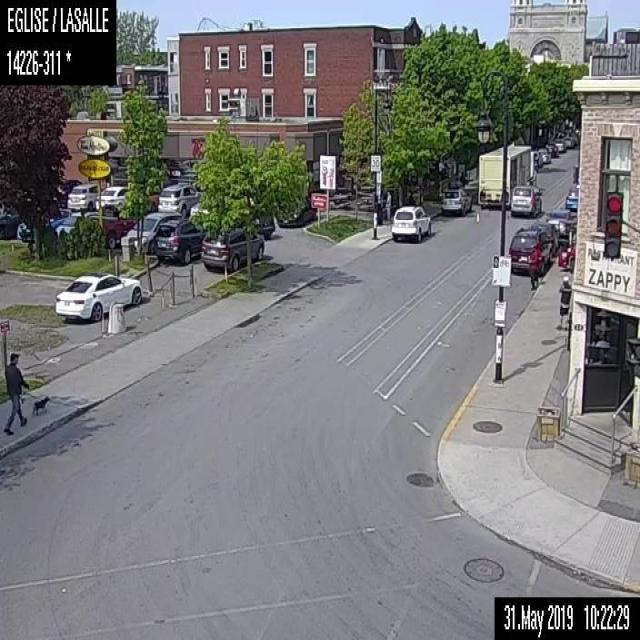pedestrian: (4, 352, 49, 435), (557, 273, 570, 331), (528, 243, 538, 289), (385, 189, 390, 223)
vehicle: (54, 270, 142, 322), (474, 142, 536, 212), (202, 222, 265, 272), (152, 218, 206, 264), (508, 230, 554, 277), (126, 212, 178, 250), (16, 207, 72, 242), (391, 202, 431, 242), (157, 181, 201, 217), (91, 215, 136, 248), (55, 211, 95, 240), (440, 187, 476, 218), (66, 182, 102, 211), (96, 183, 133, 209), (509, 184, 538, 213), (563, 188, 577, 210), (545, 142, 558, 160), (536, 146, 548, 161), (553, 139, 564, 153)
